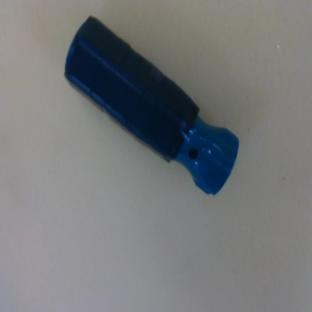part_2_bad: (48, 14, 254, 200)
